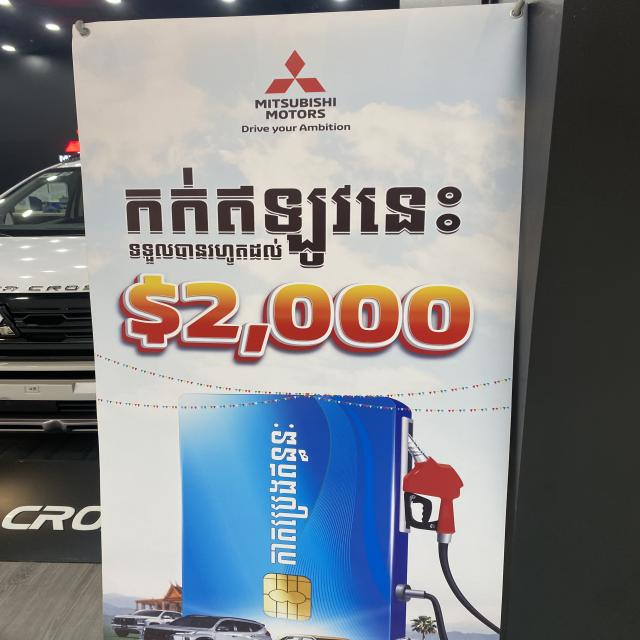132: (112, 265, 483, 367)
Yolov11kh: (116, 166, 468, 276), (265, 419, 312, 567), (125, 239, 286, 266)
